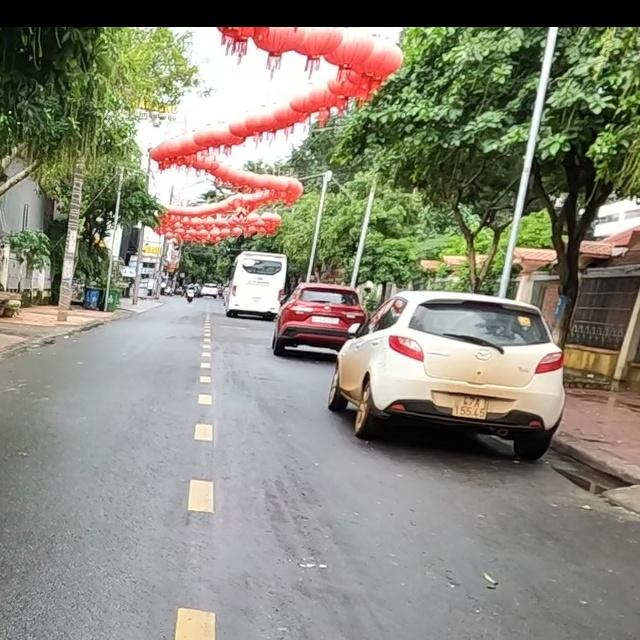license-plate: (452, 396, 489, 419)
